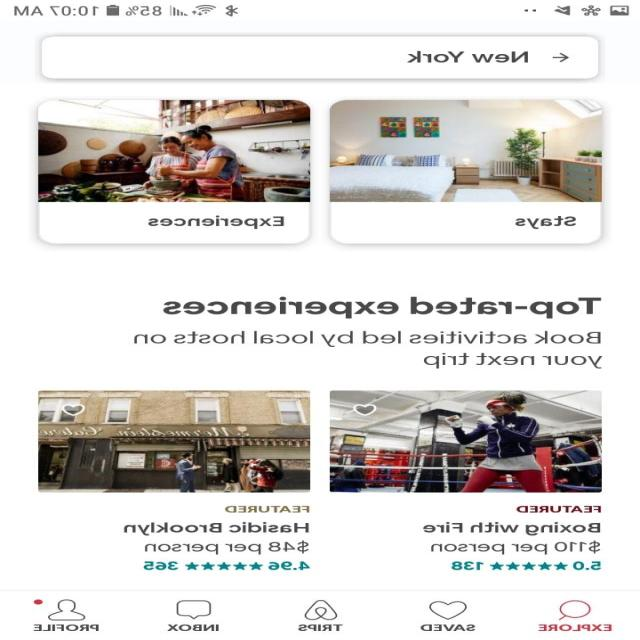EditText: (41, 36, 598, 78)
Icon: (48, 599, 86, 620), (430, 600, 468, 619), (559, 600, 591, 620), (490, 562, 569, 570), (185, 562, 264, 570), (177, 600, 212, 618), (354, 404, 377, 416), (63, 404, 85, 416), (552, 53, 570, 62)
Image: (39, 99, 311, 202), (330, 390, 602, 492), (39, 390, 311, 492), (330, 100, 602, 202), (305, 600, 339, 620)
Text: (134, 329, 603, 368), (163, 296, 602, 319), (423, 521, 601, 536), (124, 522, 310, 535), (431, 540, 601, 554), (146, 540, 310, 554), (148, 215, 286, 229), (407, 50, 528, 63), (516, 215, 578, 229), (516, 504, 602, 512), (34, 624, 100, 632), (538, 624, 612, 631), (226, 506, 310, 512), (420, 624, 476, 632), (268, 560, 310, 570), (167, 624, 220, 631), (144, 561, 180, 570), (298, 624, 344, 631), (452, 561, 484, 570), (573, 561, 602, 570)
